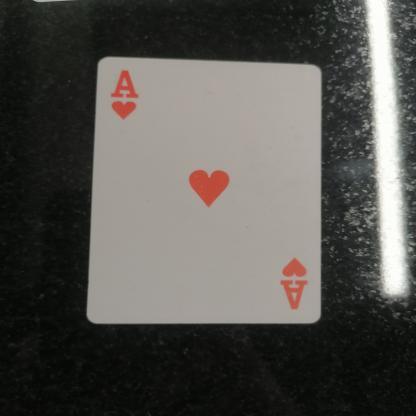AH: (92, 66, 167, 132), (270, 256, 316, 314)
